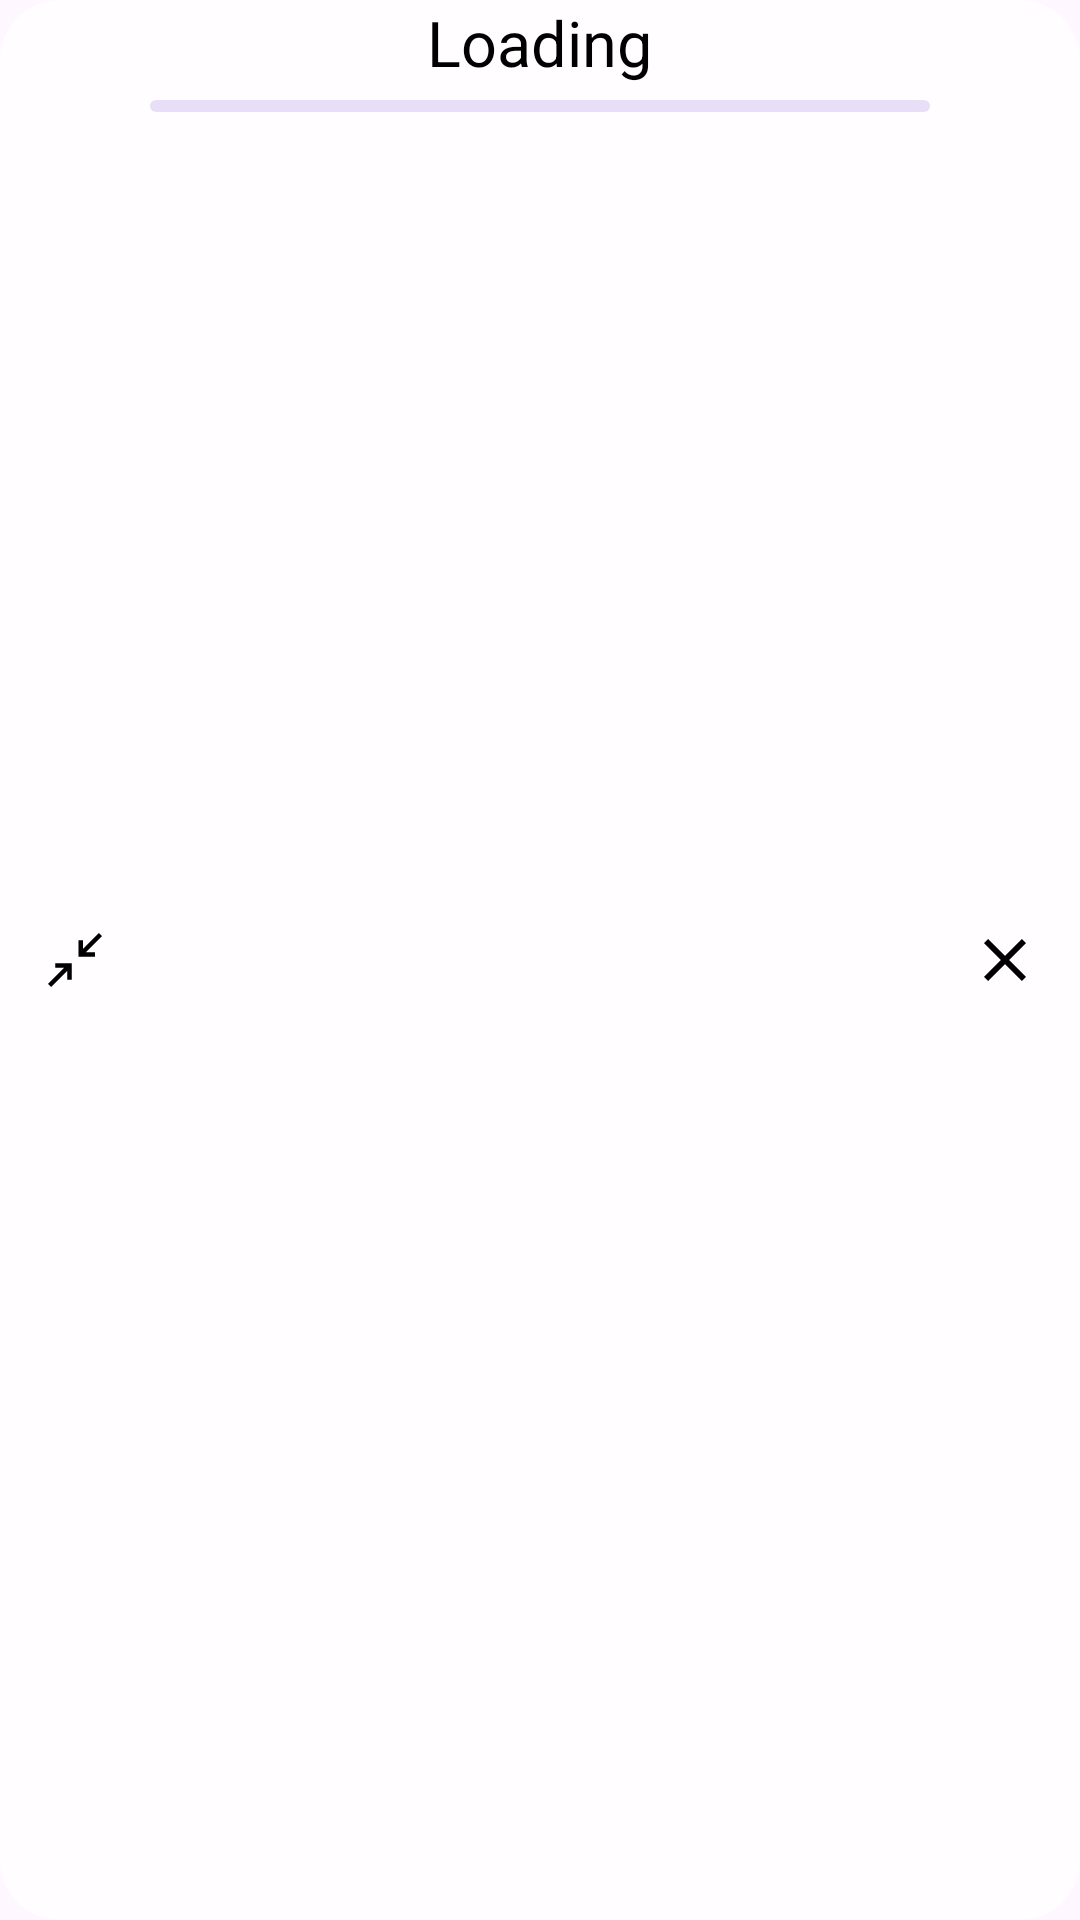

Icons on this 1080px x 1920px Android screen, each with the point to tap as point (x, y):
close: point (1005, 960)
hide: point (75, 960)
